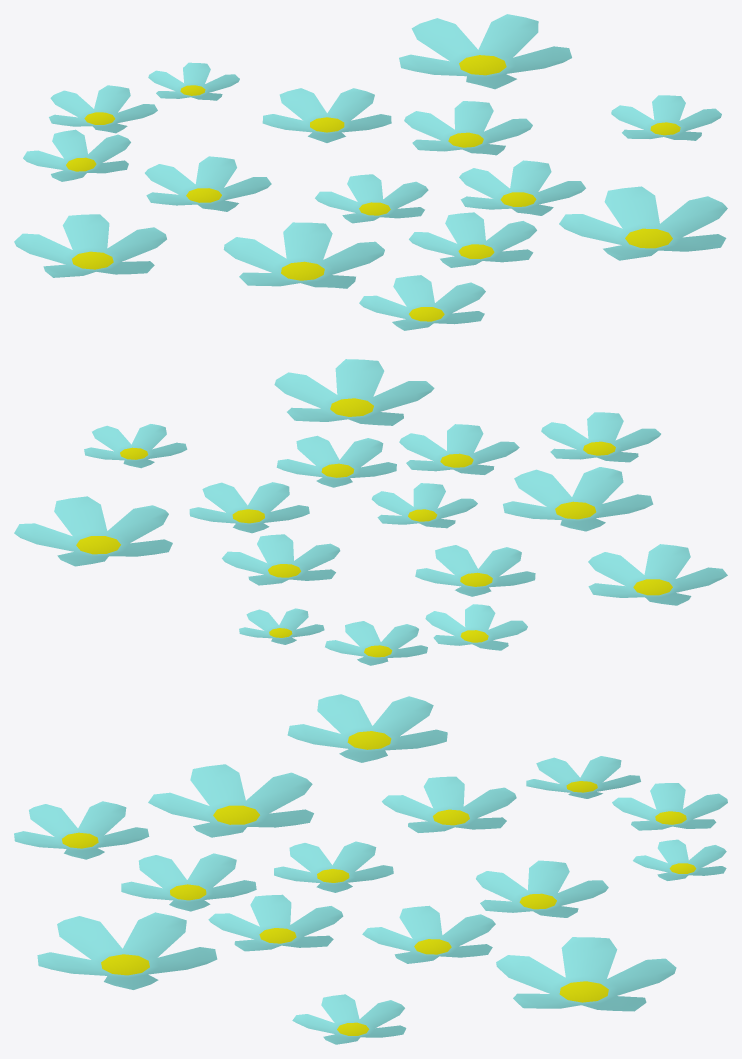
Rendered from wl_blueFlower_01.fbx.
3 renders of one model, top to bottom at view 1: azimuth 30°, elevation 25°; view 2: azimuth 150°, elevation 25°; view 3: azimuth 270°, elevation 25°, orthographic. The views are drawn at different scales.
Visible parts, largest first — view 1: blueFLower_01; view 2: blueFLower_01; view 3: blueFLower_01.
Part boxes in pixels (box(x1,y1,x2,y2)): blueFLower_01: box(14, 14, 727, 330); blueFLower_01: box(14, 359, 727, 665); blueFLower_01: box(14, 694, 727, 1044).
Bounding box in the file's own units: 116 × 2.87 × 101.
